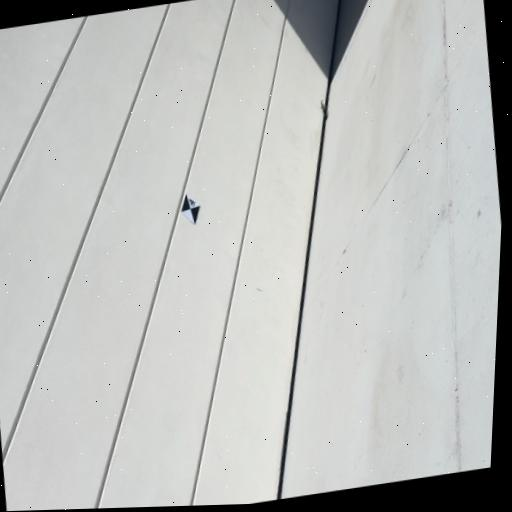target4: (181, 193, 200, 224)
